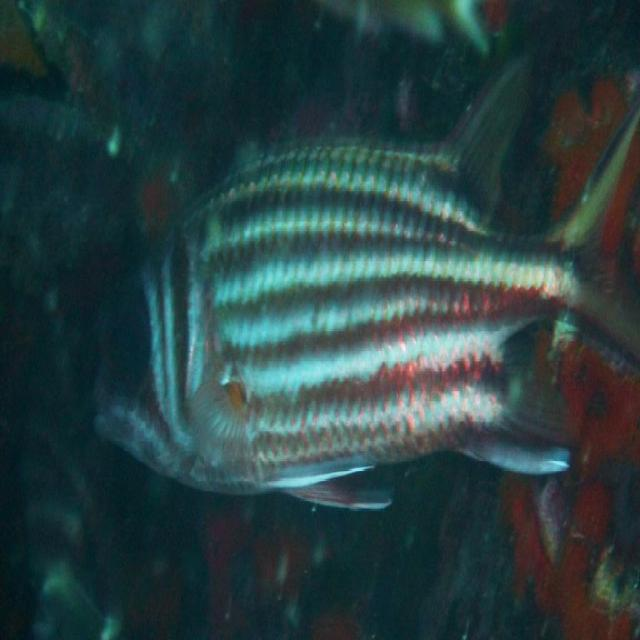Asker Baligi: (71, 108, 640, 528)
